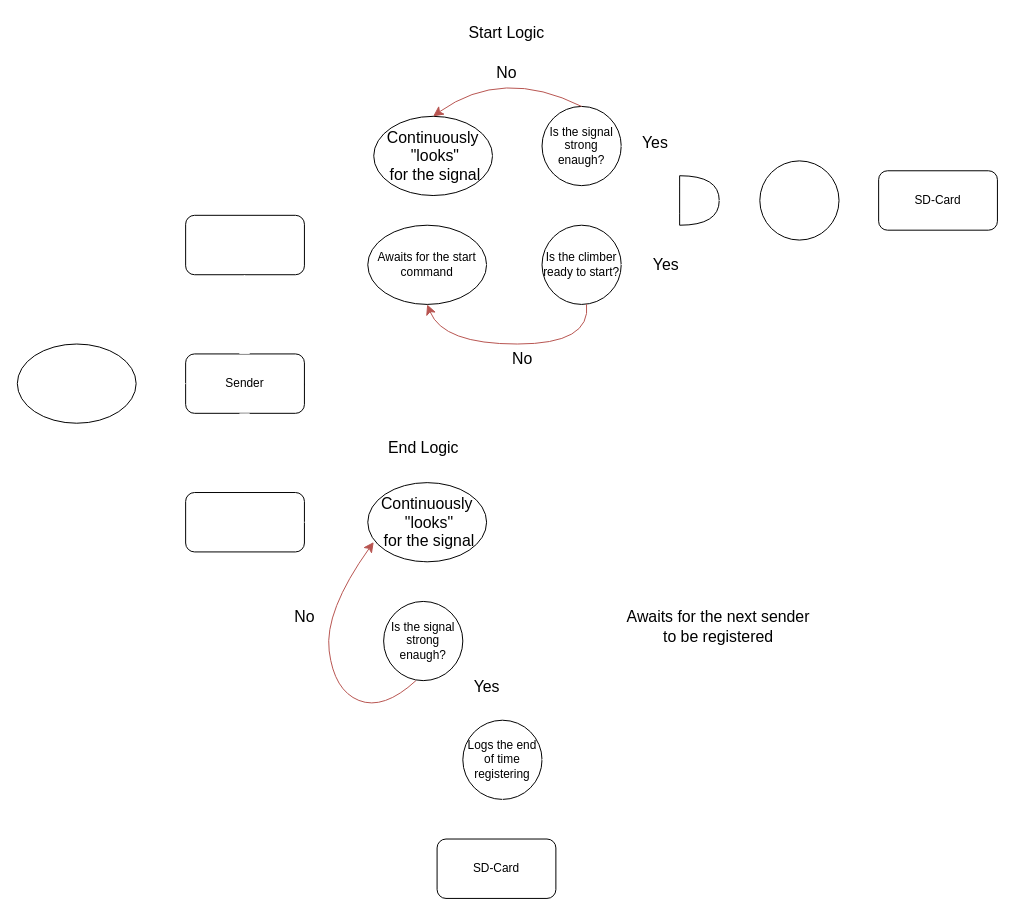
Some shapes in this 1015 by 916 pixel diagram are drawn without their labels. Each missing label, with the centre of its shape:
"AND" belongs at pixel 699 200.
"Continuously sends the signal" belongs at pixel 76 383.
"Logs the start of time registering" belongs at pixel 799 200.
"Start Reciver" belongs at pixel 244 244.
"Stop Reciver" belongs at pixel 244 522.
